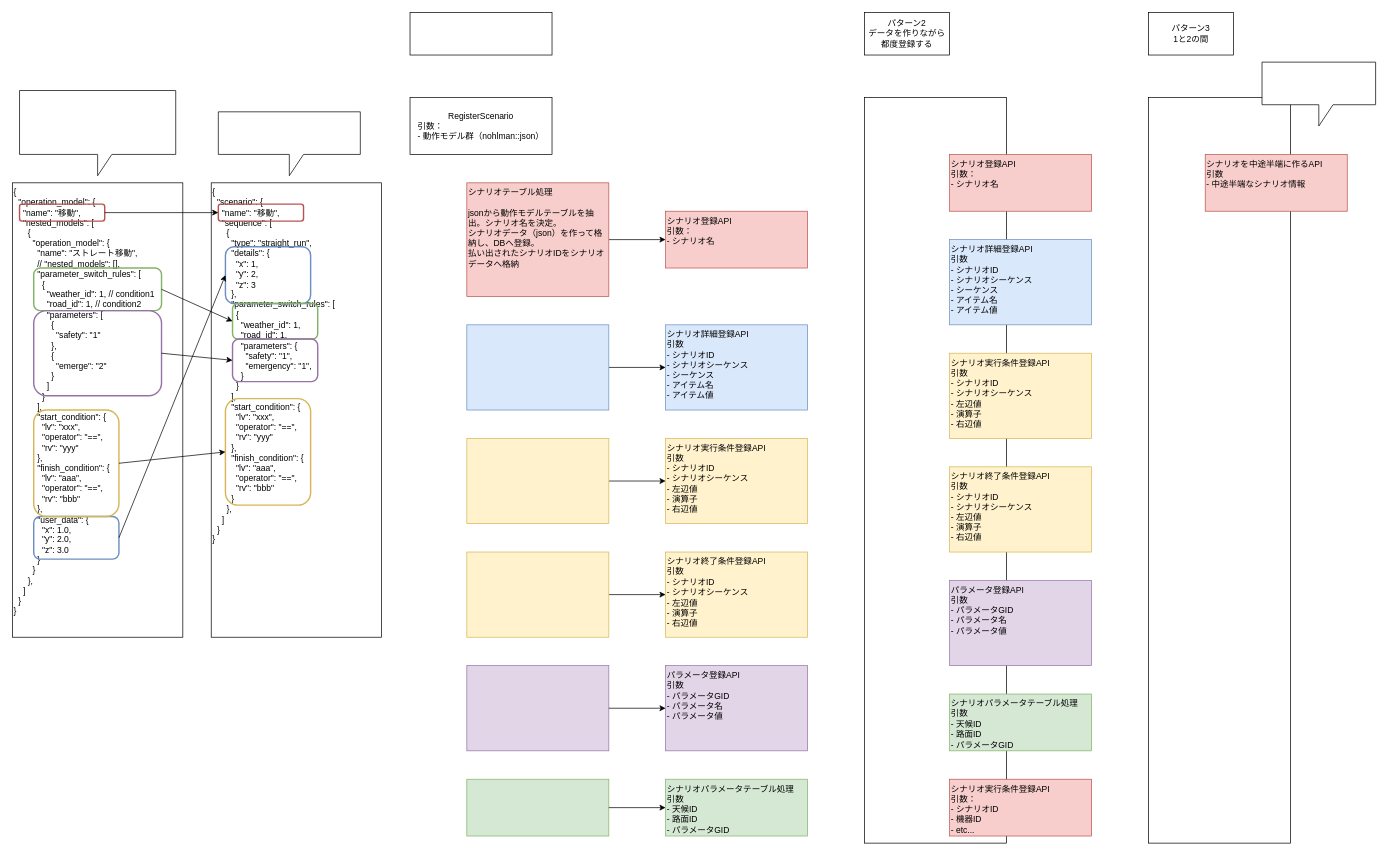
The diagram is 1388 pixels wide and 856 high, and some of its shapes have lost their labels. The centre of each missing label's shape, as x and y in pixels:
わざわざ中途半端な間を作るぐらいなら最初から1か2をやった方がいい: [1318,93]
シナリオパラメータテーブル処理 動作モデルのパラメータテーブルをコピーする: [537,807]
シナリオ変換プログラムで、こんな感じのnlohman::jsonに変換して登録する: [289,143]
シナリオ実行条件テーブル処理 今回は非サポート: [537,481]
シナリオ生成プログラムが色々やってる中で、登録APIを自由に叩いてもらう。: [935,470]
シナリオ生成プログラムで、こんな感じのnlohman::jsonのインスタンスを作る。 データ構造を決める必要があるので無理かも？: [97,133]
シナリオ終了条件テーブル処理 今回は非サポート: [537,594]
シナリオ詳細テーブル処理 jsonから動作モデル詳細テーブルを抽出。 動作モデルツリーの末端モデルのみを抽出してシナリオデータへ変換・格納: [537,367]
パターン1 動作モデルをjsonで作って解釈する。既存のシナリオ変換: [480,33]
パラメータテーブル処理 動作モデルをコピーしてシナリオデータに格納 最新のGIDを取得してインクリメントして、それを使う: [537,708]
